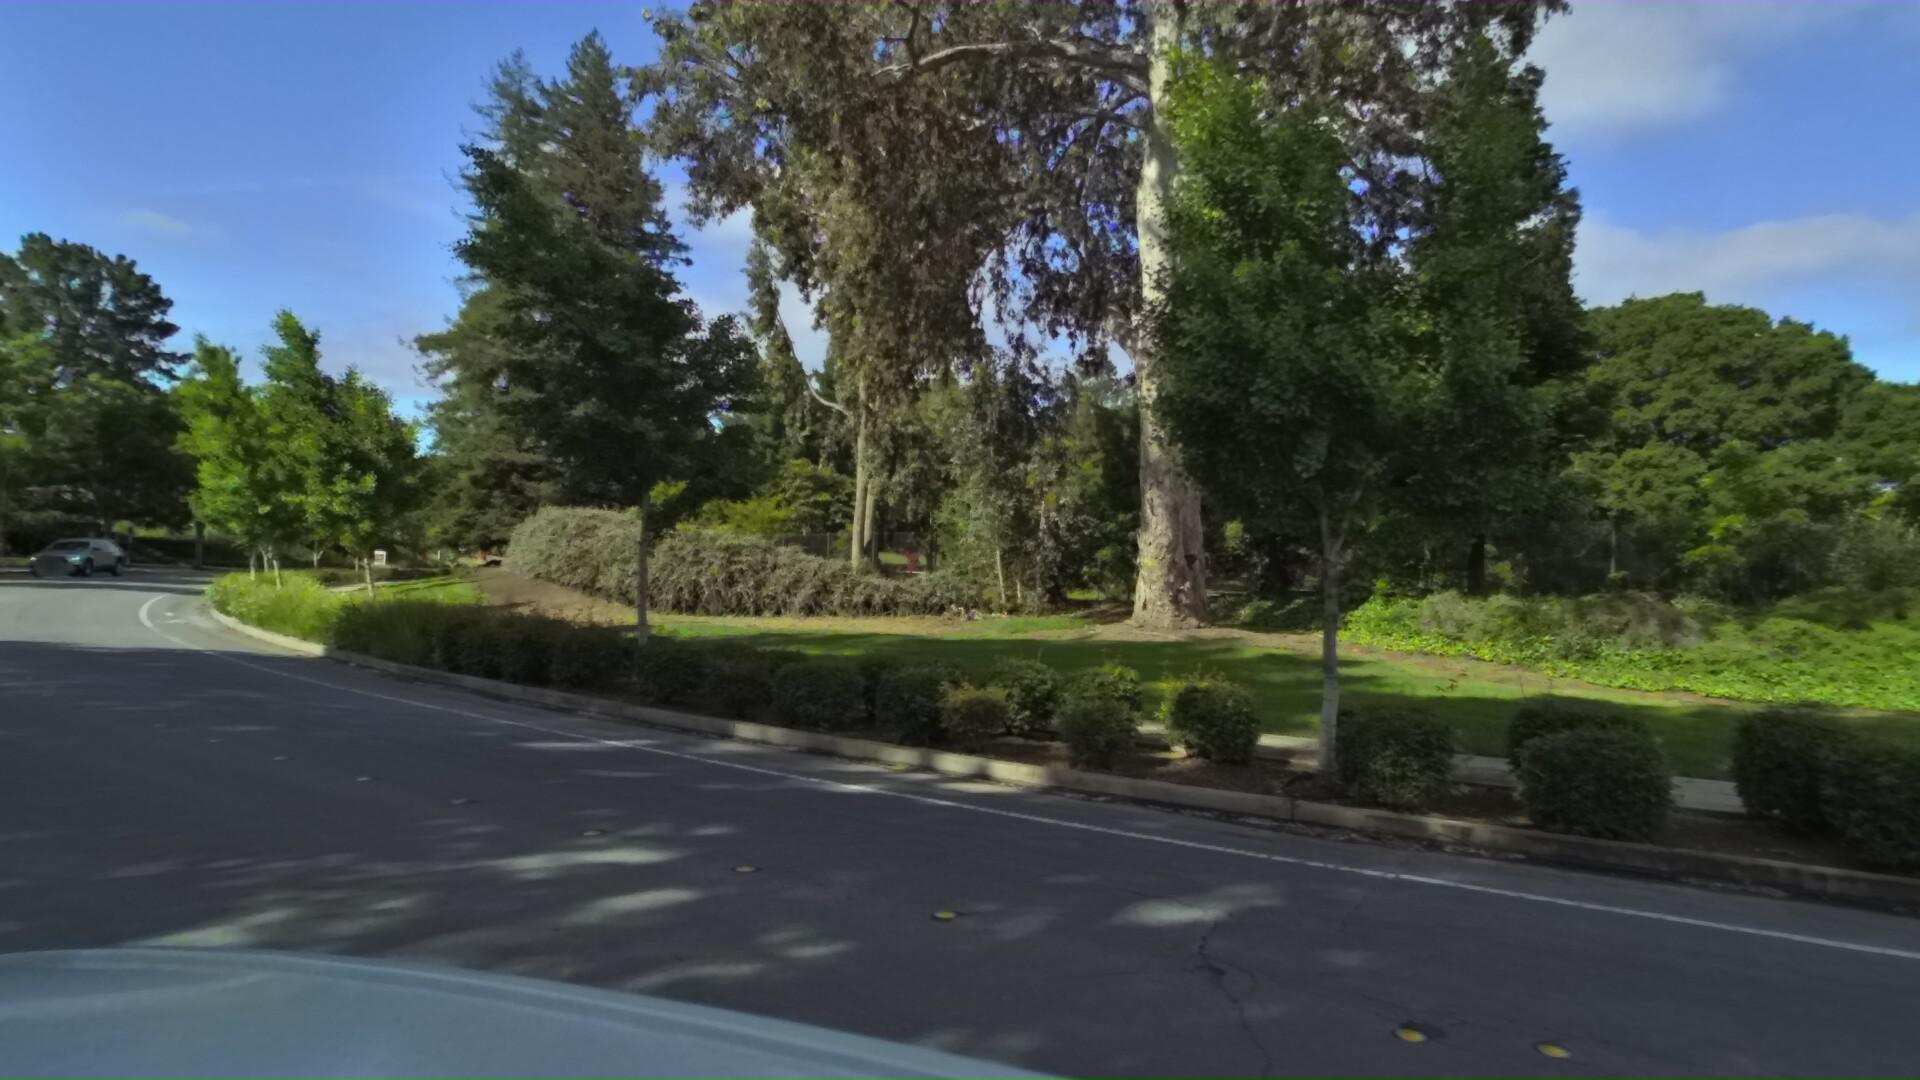car: (26, 541, 138, 584)
